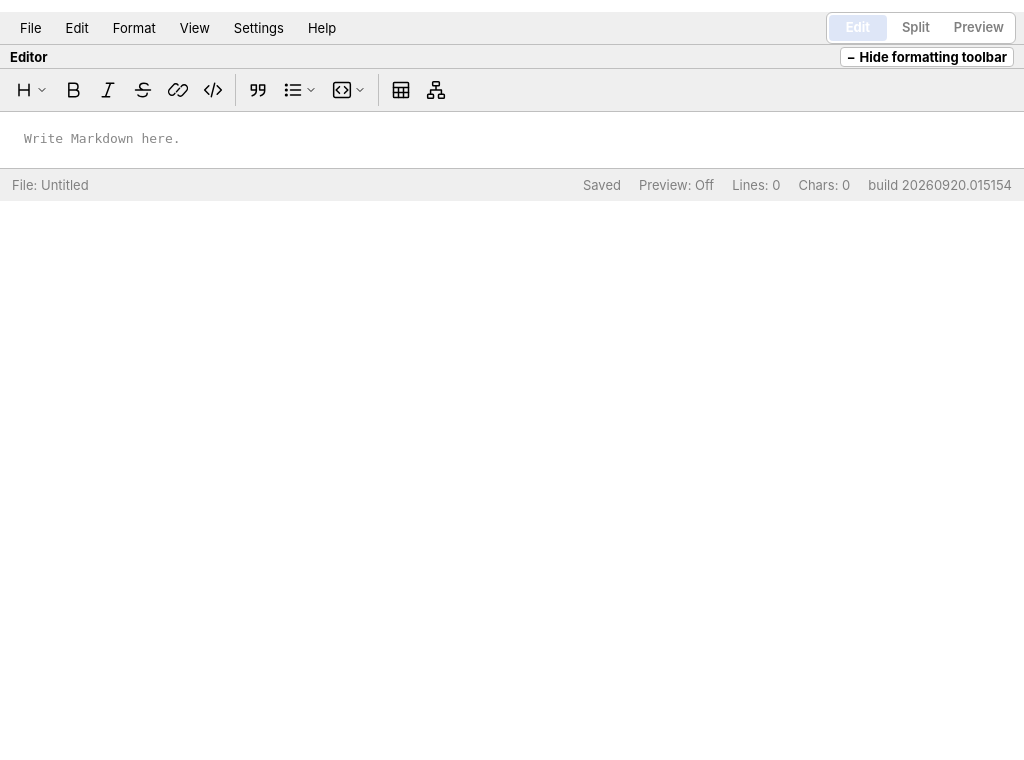
Test: document session safety › uses the same Japanese placeholders from the toolbar and Format menu
Click the button "Settings".
click(259, 28)  # box [222, 12, 296, 44]
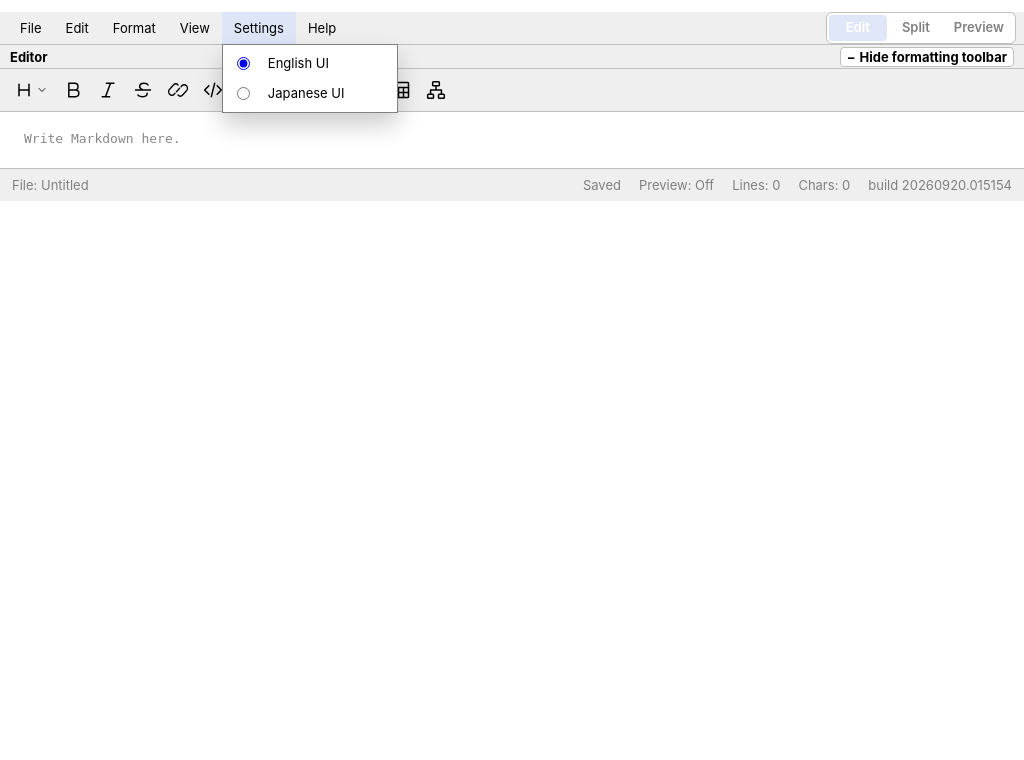
Click the radio button named "language".
click(243, 93)  # box [237, 87, 250, 100]
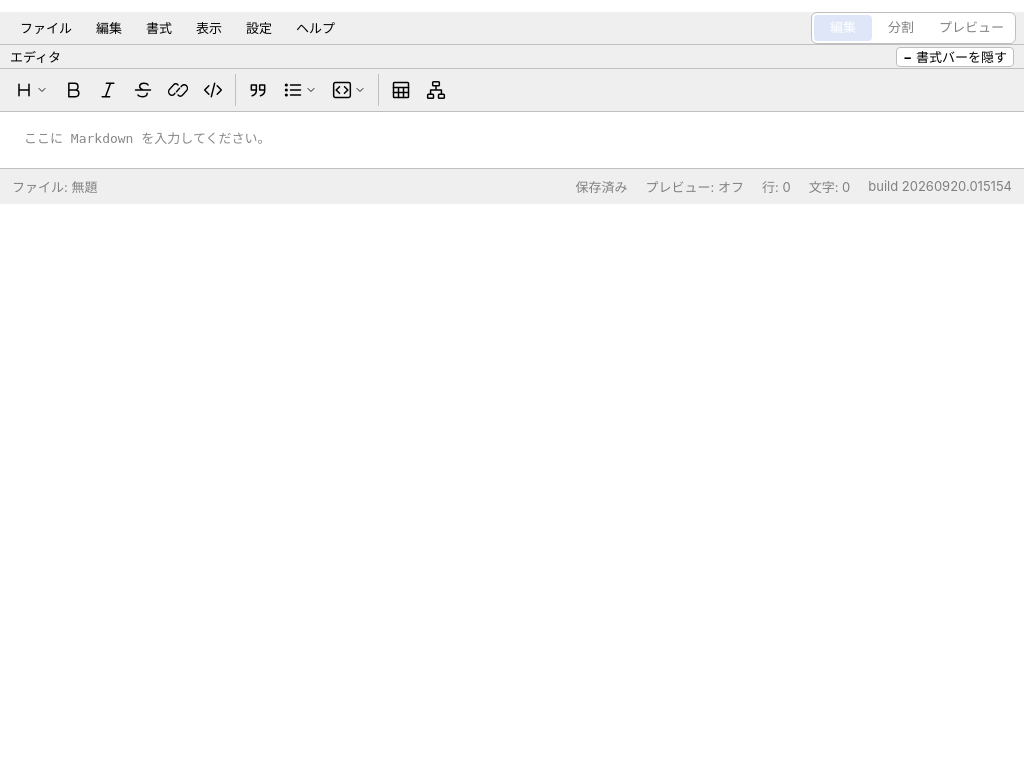
Now the text with class "cm-placeholder" reads "ここに Markdown を入力してください。", box [24, 131, 270, 146]
Click the button named "太字".
click(73, 90)  # box [57, 74, 89, 106]
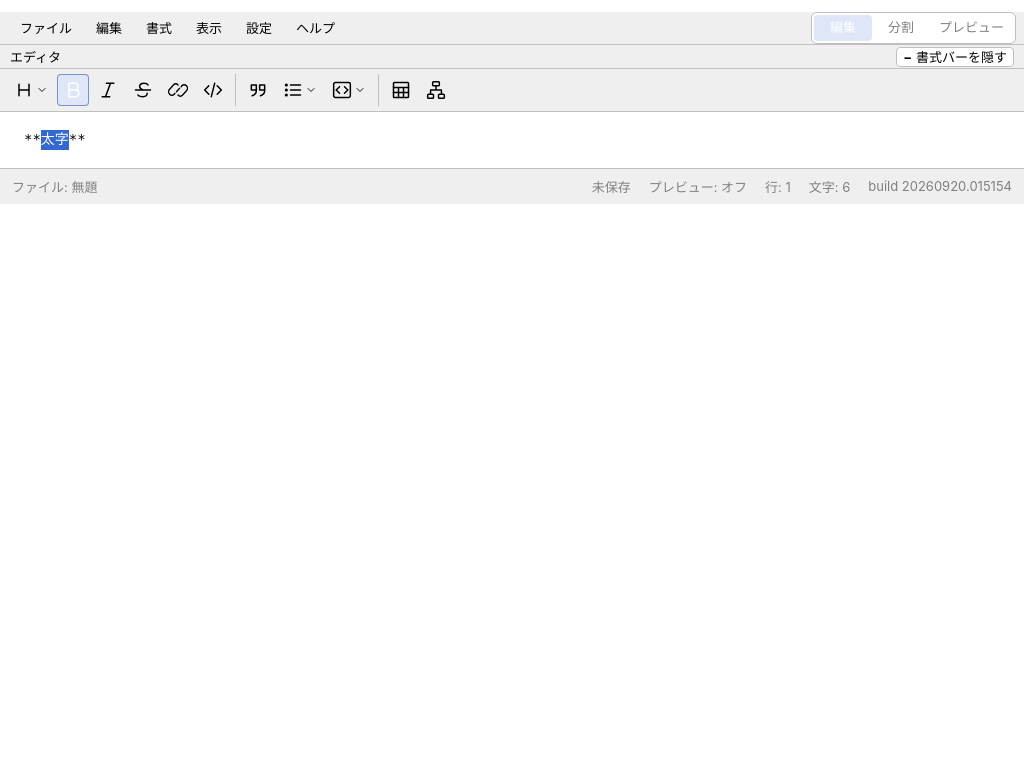
Now the text box labelled "**太字**" is shown
Press z in the field with class "cm-content", box [24, 131, 86, 147]
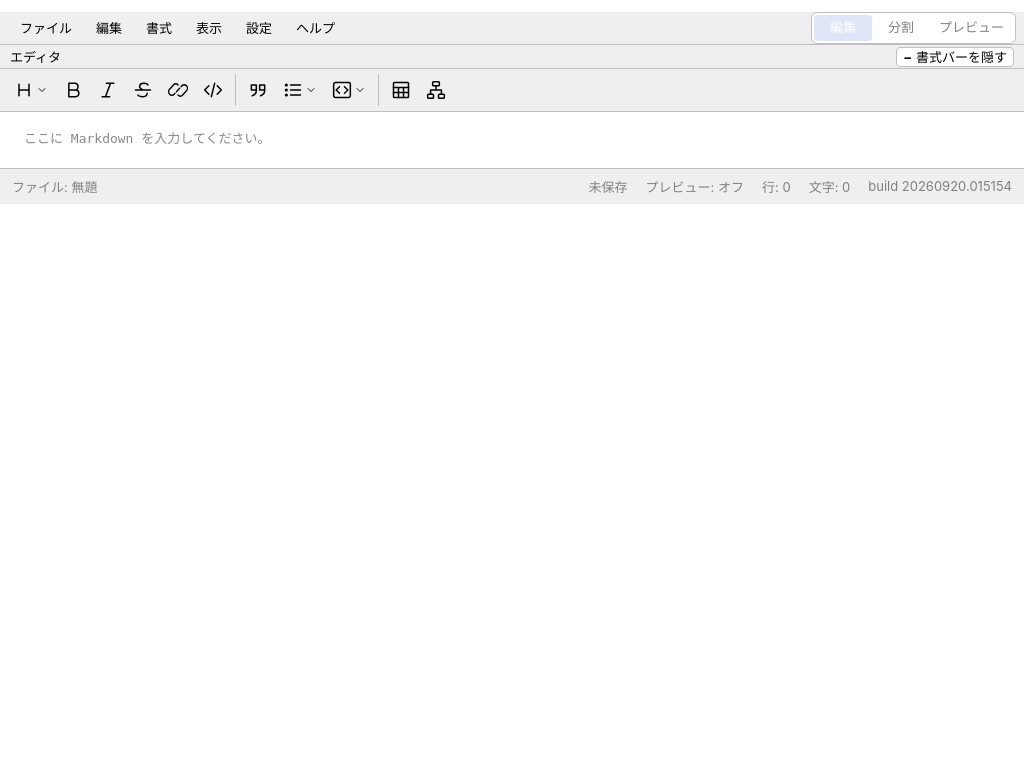
Now the text with class "cm-placeholder" reads "ここに Markdown を入力してください。", box [24, 131, 270, 146]
Click the button "書式".
click(159, 28)  # box [134, 12, 184, 44]
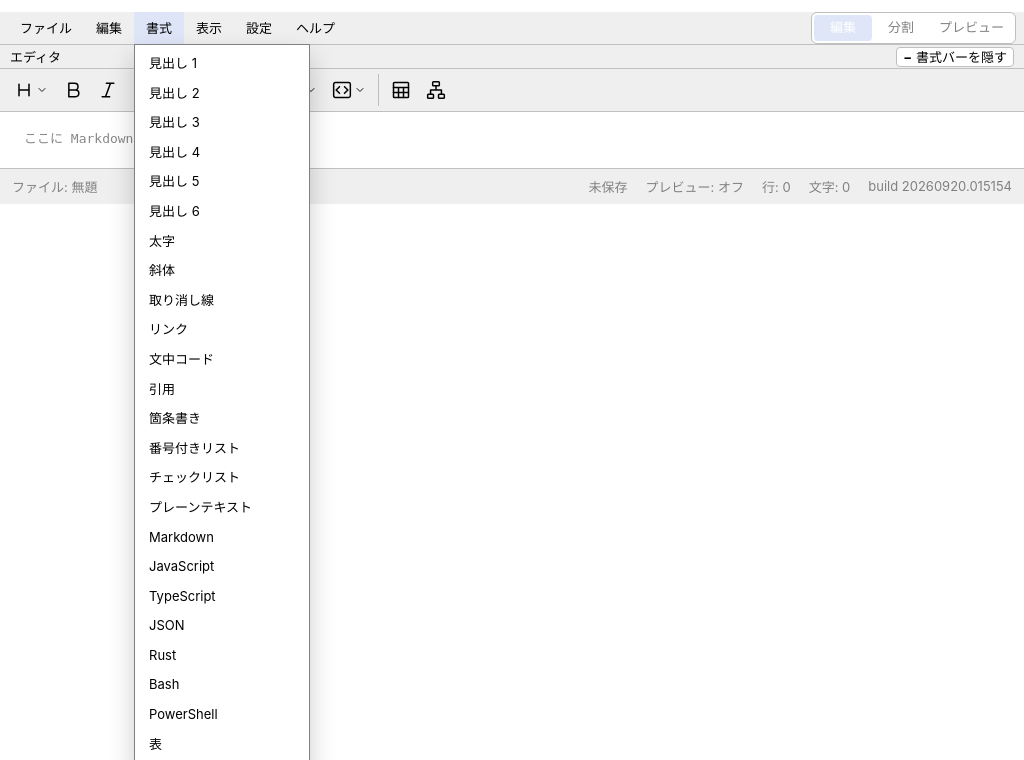
Click the menu item "太字".
click(222, 241)  # box [139, 227, 305, 256]
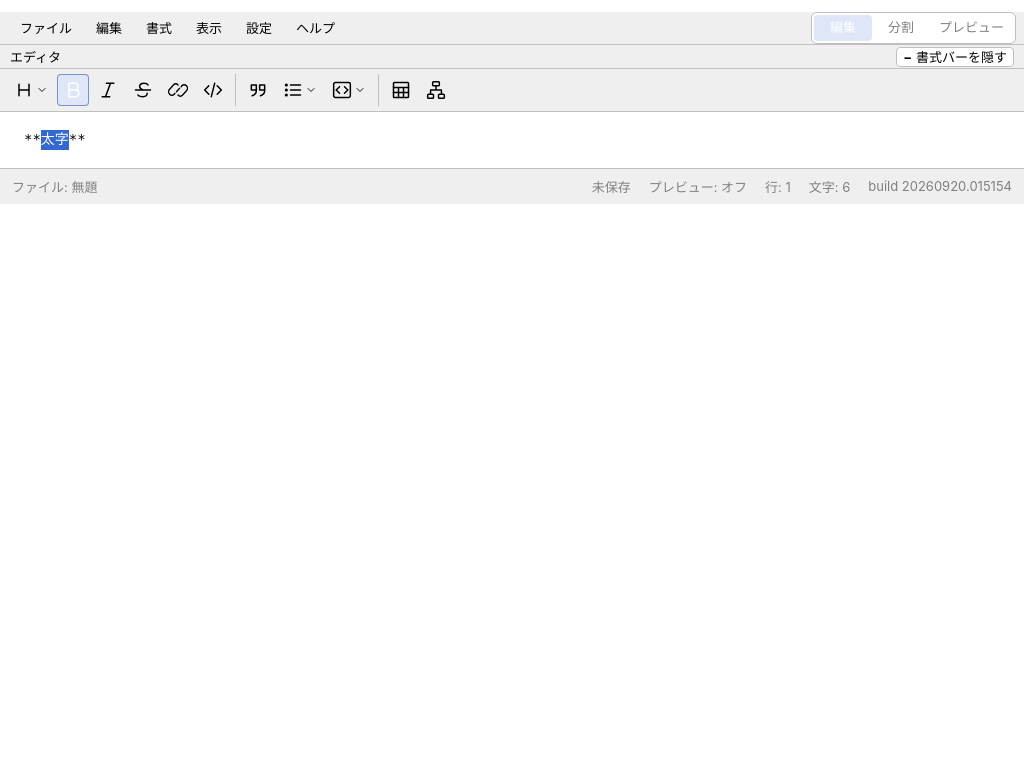
Now the text box labelled "**太字**" is shown, box [24, 131, 86, 147]
